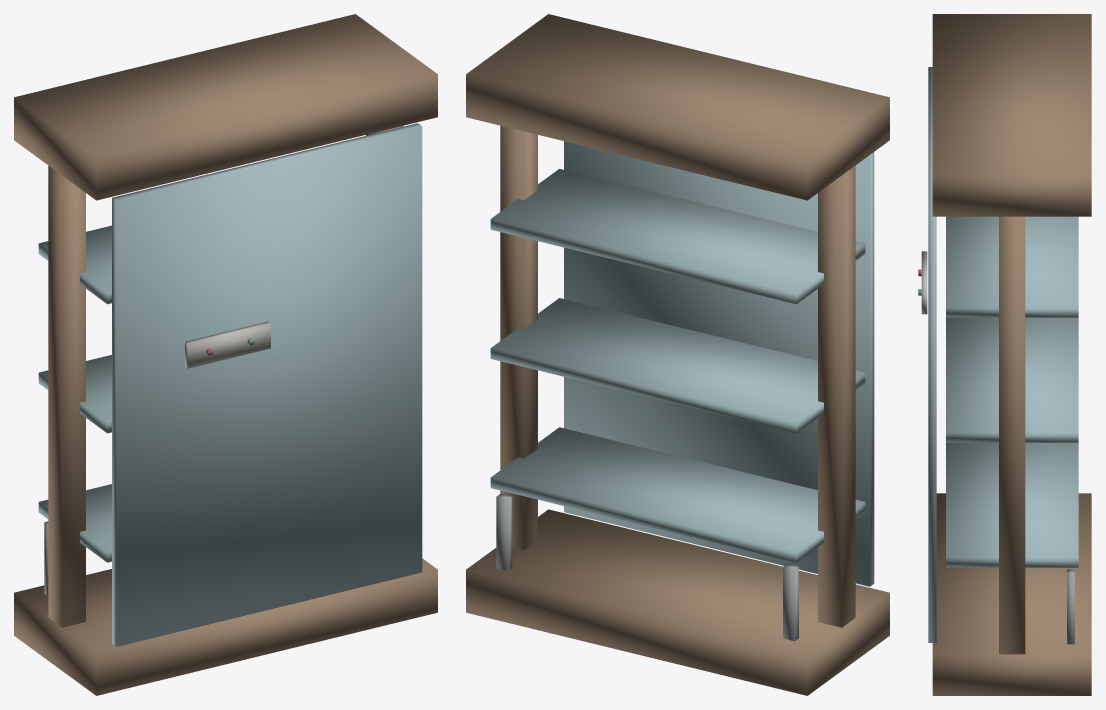
File: glass_display_cabinet__reinforced.glb
3 views of the same model, side by side, from view 1: azimuth 30°, elevation 25°; view 2: azimuth 150°, elevation 25°; view 3: azimuth 270°, elevation 25° (orthographic). The views are drawn at different scales.
Parts seen in each view (by area): view 1: world; view 2: world; view 3: world.
Boxes of the visible parts, box(x1,y1,x2,y2) form: world: box(14, 14, 437, 695); world: box(466, 14, 889, 695); world: box(918, 14, 1091, 695).
Size of the model in its own units: 1.18 by 1.78 by 0.5392.
